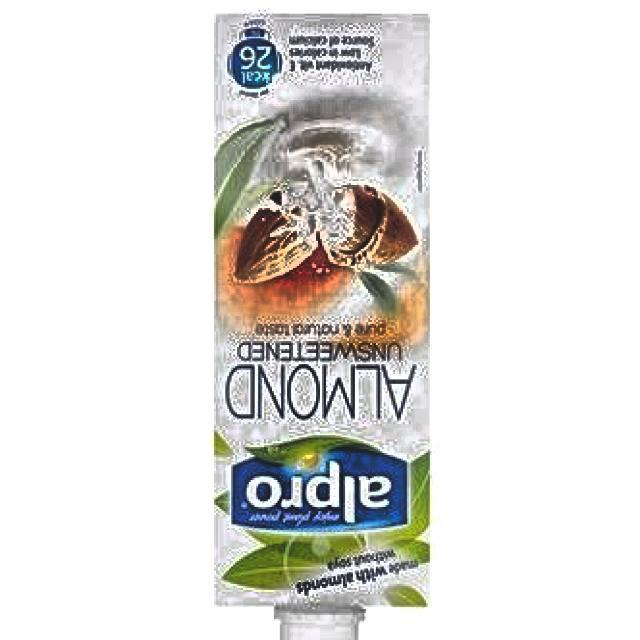cardboard: (212, 13, 434, 640)
